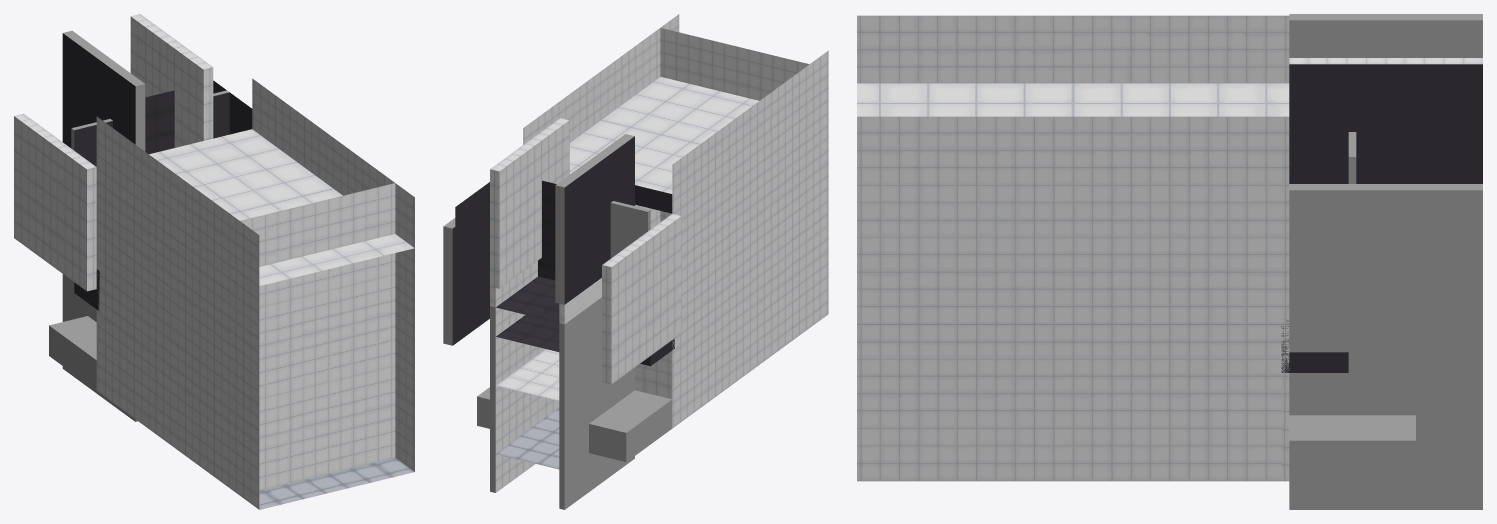
Rendered from Level1_A1.fbx.
3 views of the same model, side by side, from view 1: azimuth 30°, elevation 25°; view 2: azimuth 150°, elevation 25°; view 3: azimuth 270°, elevation 25° (orthographic). The views are drawn at different scales.
Visible parts, largest first — view 1: polySurface16, polySurface17, pCube19, polySurface18, pPlane10, polySurface13, polySurface21, polySurface22, polySurface14, polySurface3, polySurface7, pCube58 (+12 smaller); view 2: pCube19, pCube58, pCube57, polySurface13, polySurface14, polySurface21, polySurface3, pPlane10, polySurface22, polySurface7, polySurface18, pCube48 (+17 smaller); view 3: pCube37, polySurface12, polySurface20, polySurface5, polySurface11, polySurface19, polySurface6, pCube58, polySurface22, polySurface21, pCube56, pPlane10 (+5 smaller).
Part boxes in pixels (x1,y1,x2,y2): polySurface16: (259,366,395,490); polySurface17: (259,274,395,399); pCube19: (14,113,96,291); polySurface18: (240,183,395,307); pPlane10: (65,80,332,213); polySurface13: (178,359,259,509); polySurface21: (178,176,259,326); polySurface22: (96,116,177,266); polySurface14: (178,267,259,417); polySurface3: (96,301,177,449); polySurface7: (96,208,177,358); pCube58: (130,14,213,147); pCube19: (602,213,681,384); pCube58: (490,118,569,288); pCube57: (555,134,634,304); polySurface13: (750,226,828,371); polySurface14: (750,138,828,283); polySurface21: (750,50,828,195); polySurface3: (672,284,750,428); pPlane10: (455,120,699,253); polySurface22: (672,108,750,245); polySurface7: (673,196,750,339); polySurface18: (660,28,809,100); pCube48: (559,278,634,431); pCube37: (1289,184,1482,352); polySurface12: (857,359,1072,481); polySurface20: (1073,116,1289,237); polySurface5: (1073,238,1289,359); polySurface11: (857,238,1072,359); polySurface19: (857,116,1072,237); polySurface6: (1073,359,1289,481); pCube58: (1289,58,1482,183); polySurface22: (1073,15,1289,83); polySurface21: (857,15,1072,83); pCube56: (1289,402,1482,509); pPlane10: (1073,83,1475,158).
Bounding box in the file's own units: 18 × 33 × 42.
7 materials, 4 textured.
